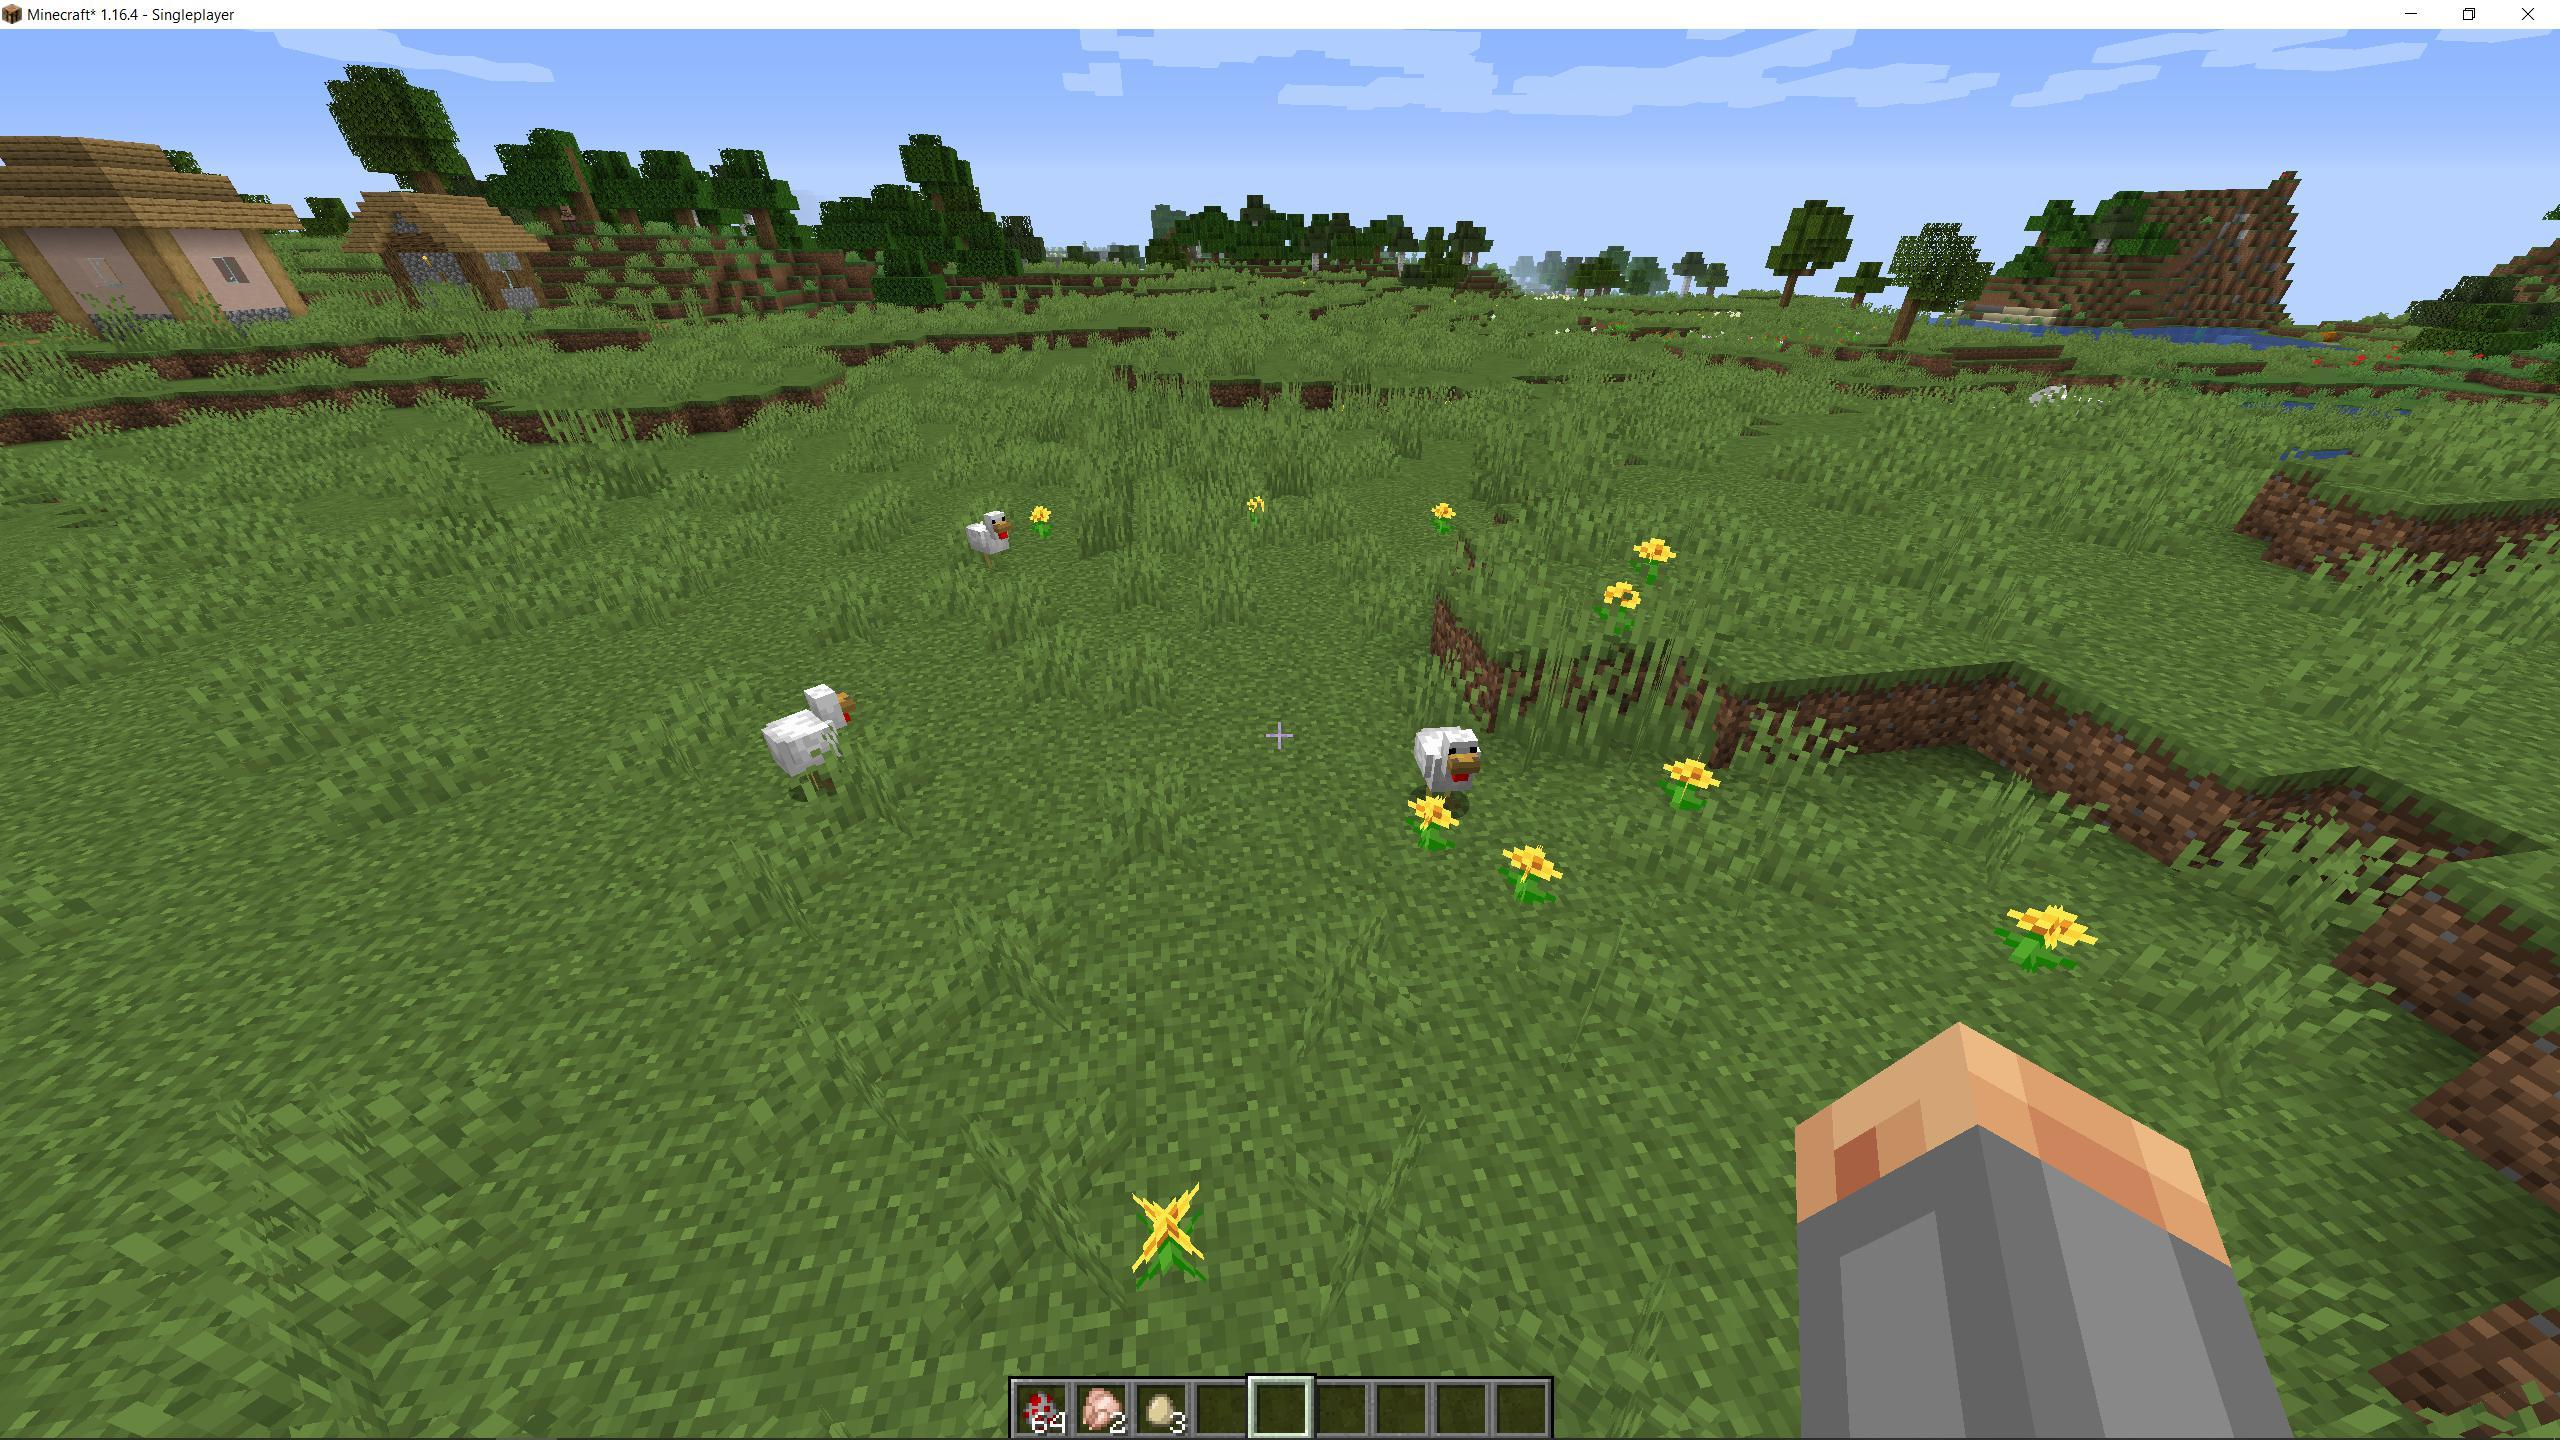chicken: (756, 666, 867, 809), (1414, 716, 1495, 825), (960, 501, 1022, 577)
